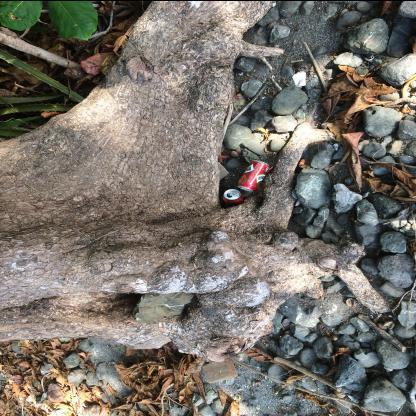metal: (238, 161, 271, 193), (223, 189, 245, 207)
